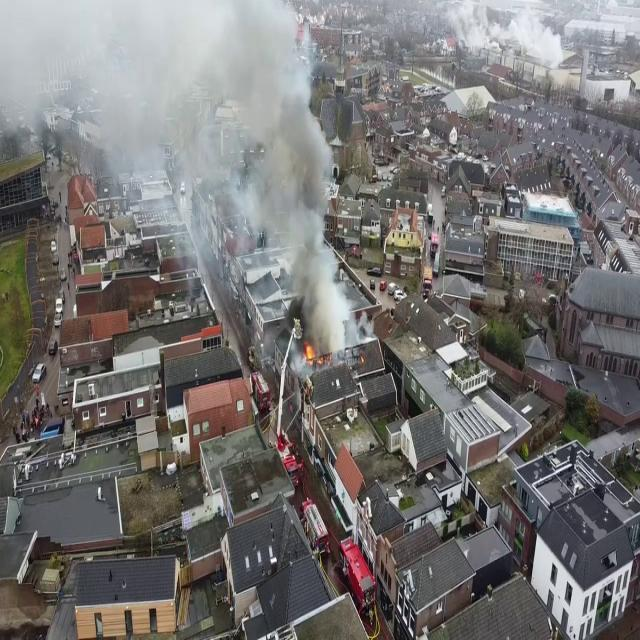Smoke: (122, 1, 359, 340)
